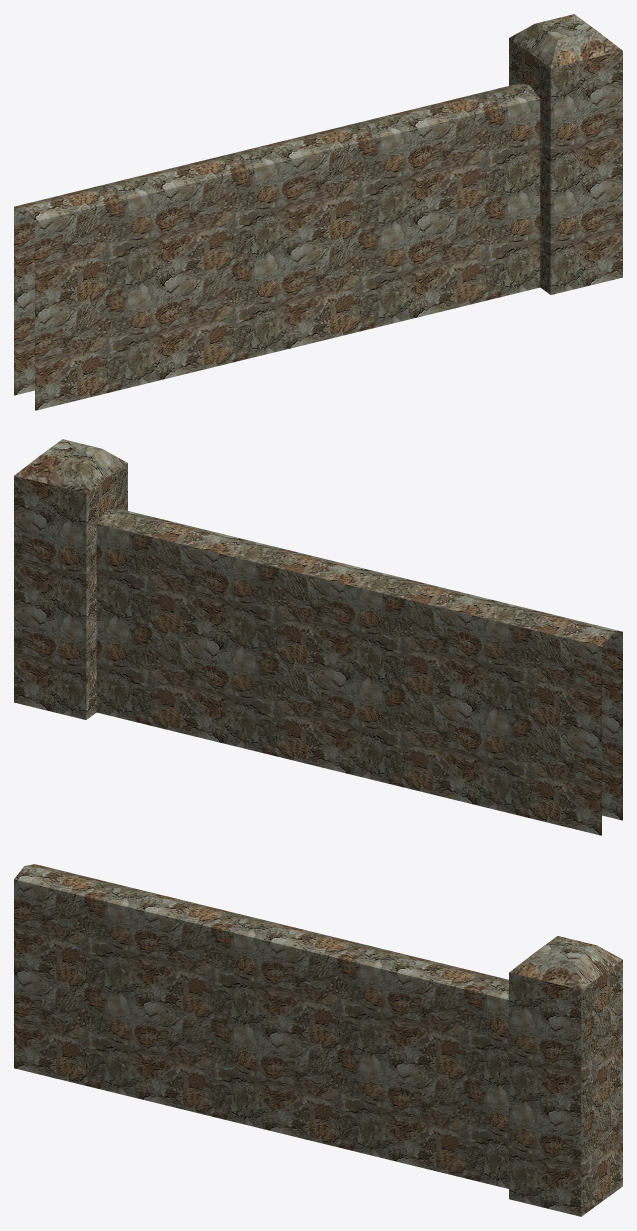
The model's file is MWalC1.glb.
3 renders of one model, top to bottom at view 1: azimuth 30°, elevation 25°; view 2: azimuth 150°, elevation 25°; view 3: azimuth 330°, elevation 25°, orthographic.
Parts seen in each view (by area): view 1: _MWalC1; view 2: _MWalC1; view 3: _MWalC1.
Boxes of the visible parts, x1,y1,x2,y2 form: _MWalC1: (14,14,622,410); _MWalC1: (14,439,622,835); _MWalC1: (14,864,622,1216).
Bounding box in the file's own units: 8 × 3.23 × 1.
1 material, 1 textured.
